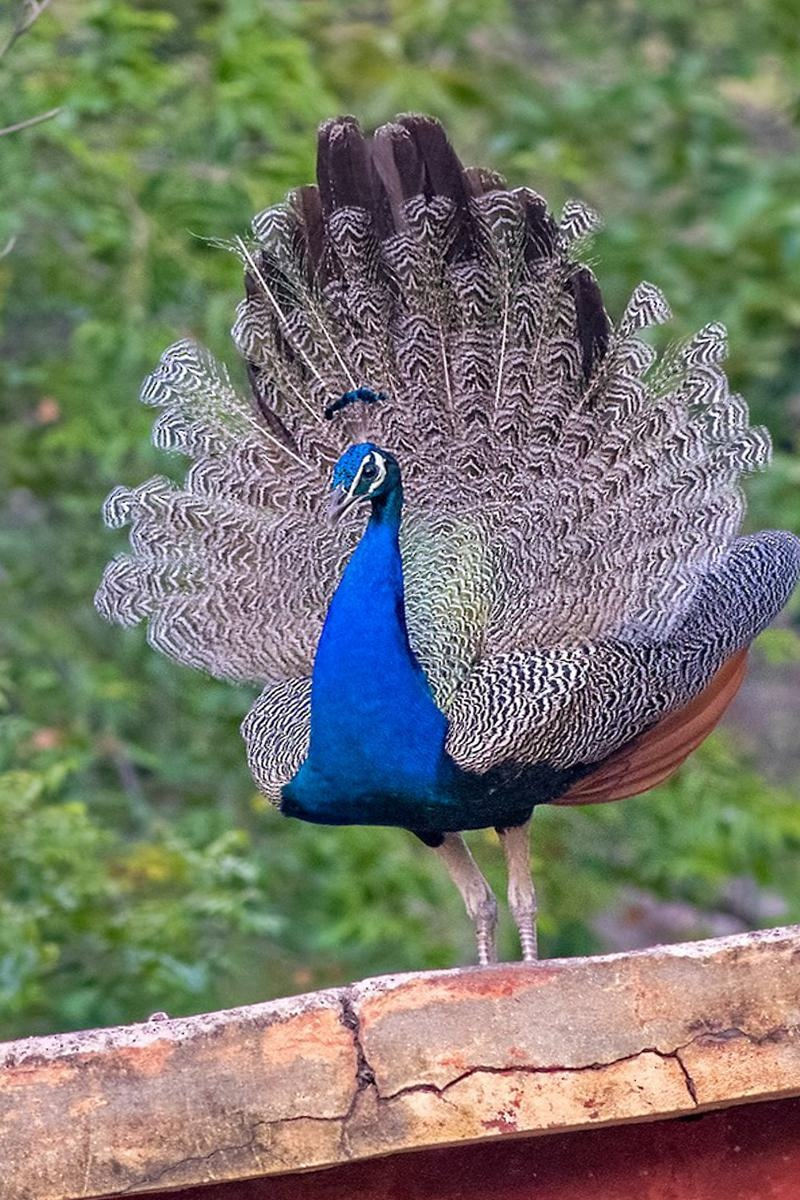peacock: (85, 112, 785, 951)
